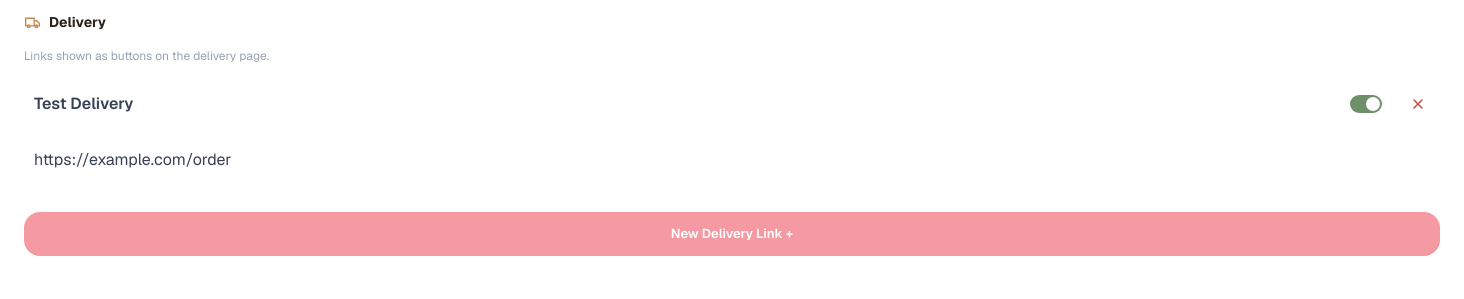
Test case: admin delivery section › clears the URL error after an invalid link is corrected
Replace the text in the field named "Test Delivery delivery link" with "tea@example.com" at (732, 160), box [24,138,1440,182]
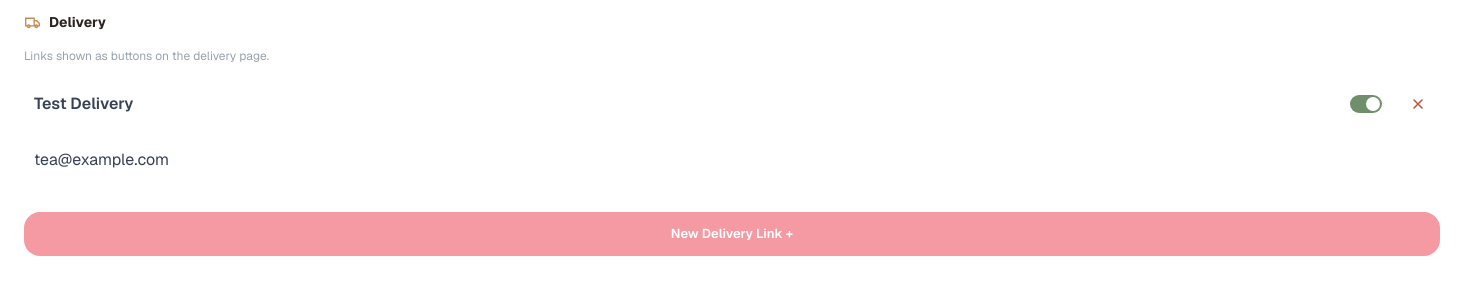
Leave the field named "Test Delivery delivery link", box [24,138,1440,182]
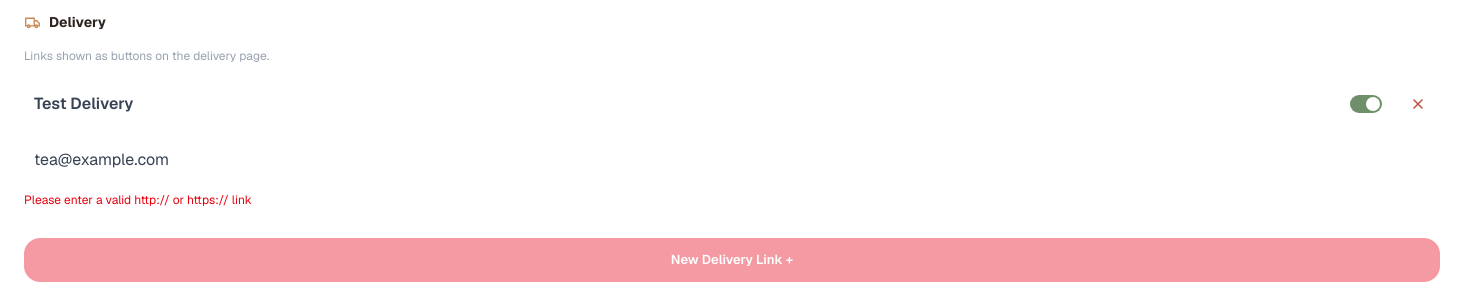
expect the text "Please enter a valid http:// or https:// link" is shown: met, box [24,192,252,208]
// once field has been checked, correcting it should clear the error
Replace the text in the field named "Test Delivery delivery link" with "https://example.com/fixed" at (732, 160), box [24,138,1440,182]
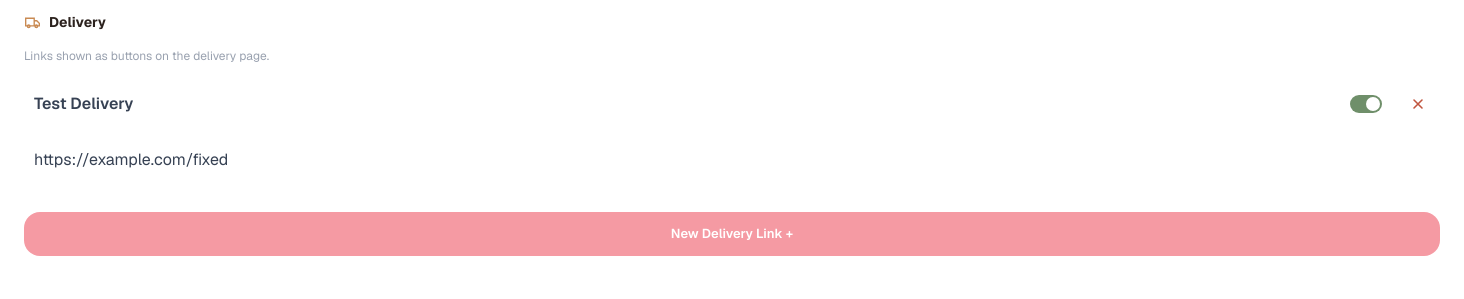
expect the text "Please enter a valid http:// or https:// link" is gone: met
